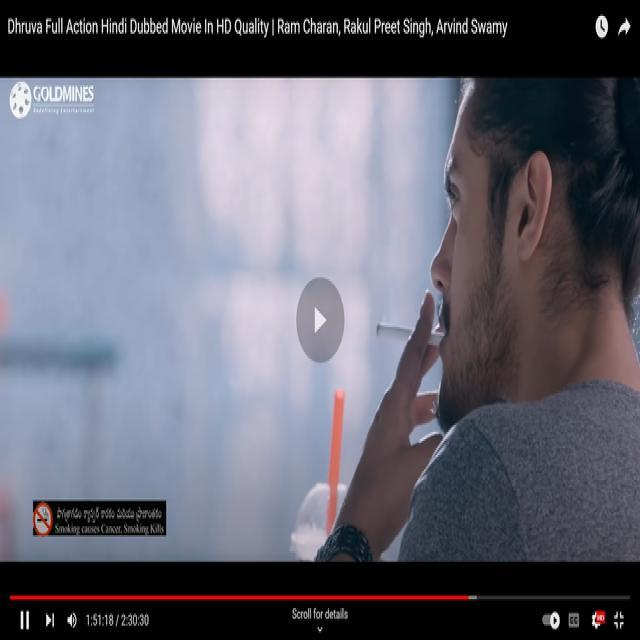smoking: (366, 308, 451, 358)
